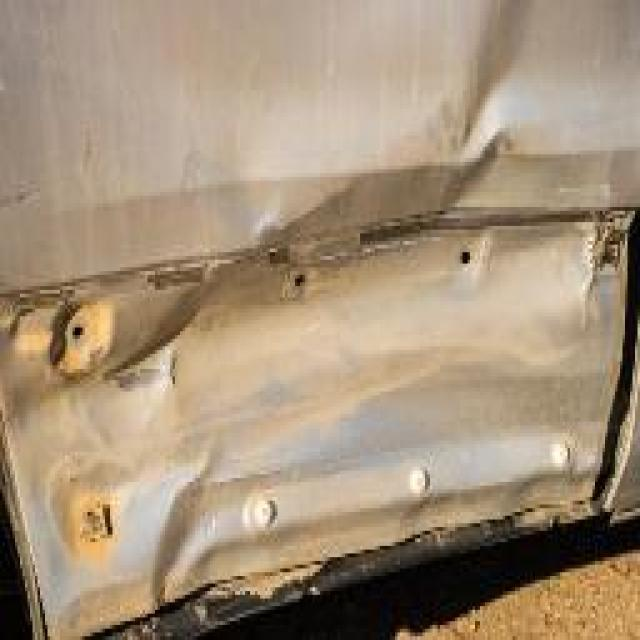Door: (8, 0, 640, 617)
